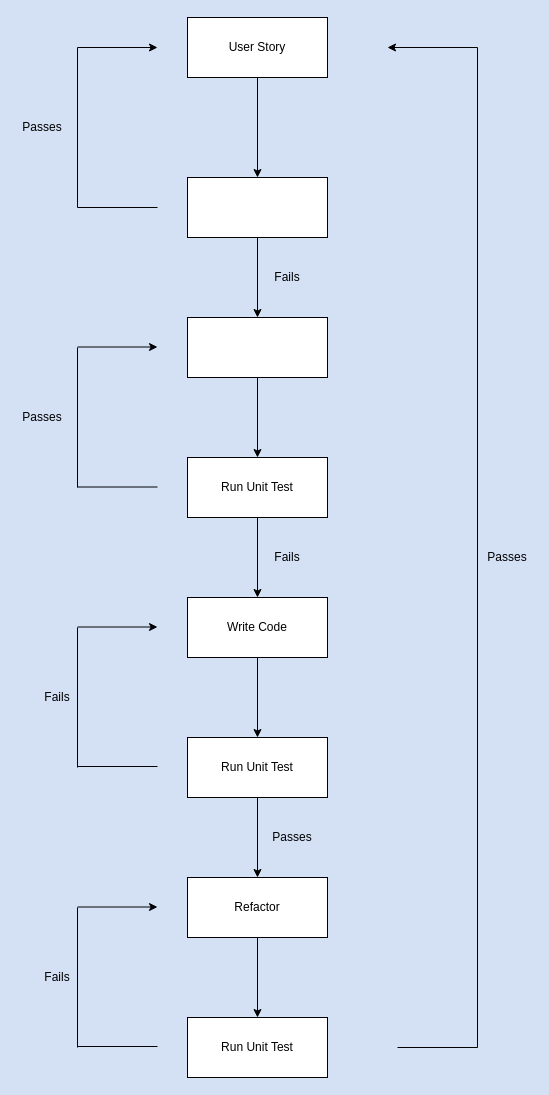
This 549x1095 diagram has some shape labels left out. Each missing label, with the centre of its shape:
Feature Test: pixel 257 207
Write Unit Test: pixel 257 347
